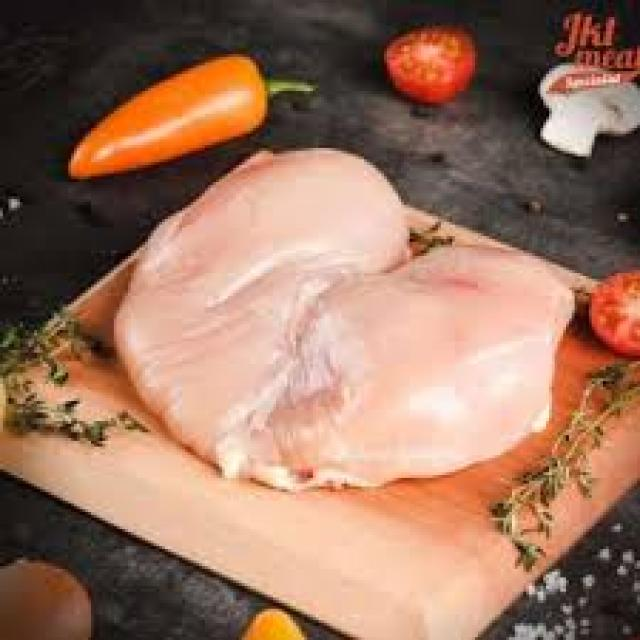Chicken Breast: (114, 152, 579, 503)
